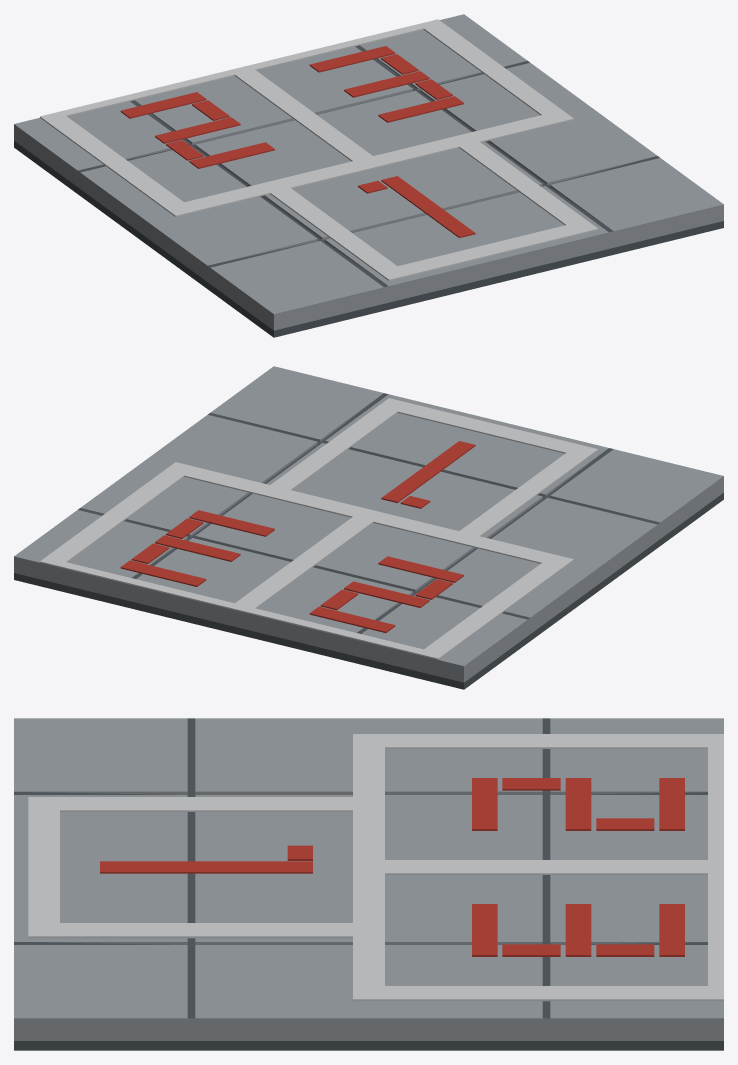
Rendered from playground-marking-decal-97e0b2.glb.
3 views of the same model, one above another, from view 1: azimuth 30°, elevation 25°; view 2: azimuth 150°, elevation 25°; view 3: azimuth 270°, elevation 25° (orthographic). The views are drawn at different scales.
Visible parts, largest first — view 1: marking-tile-mesh; view 2: marking-tile-mesh; view 3: marking-tile-mesh.
Part boxes in pixels (x1,y1,x2,y2): marking-tile-mesh: (14, 14, 723, 337); marking-tile-mesh: (14, 366, 723, 689); marking-tile-mesh: (14, 718, 723, 1050).
Size of the model in its own units: 1 by 0.0528 by 1.
